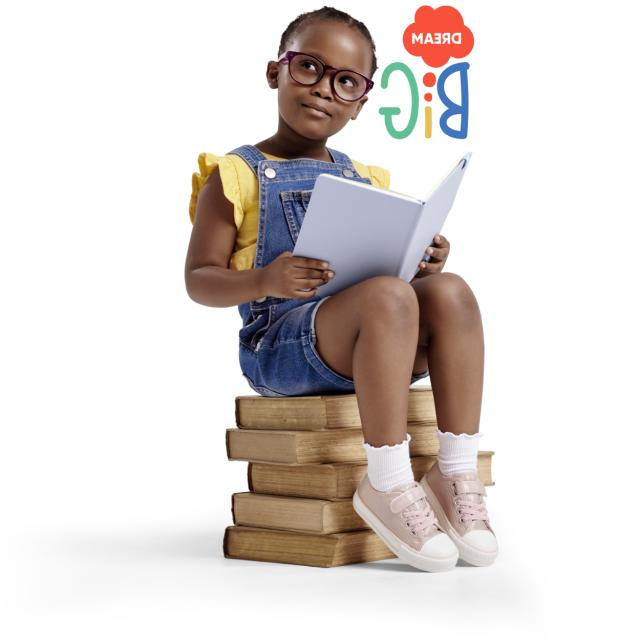child: (183, 8, 502, 574)
